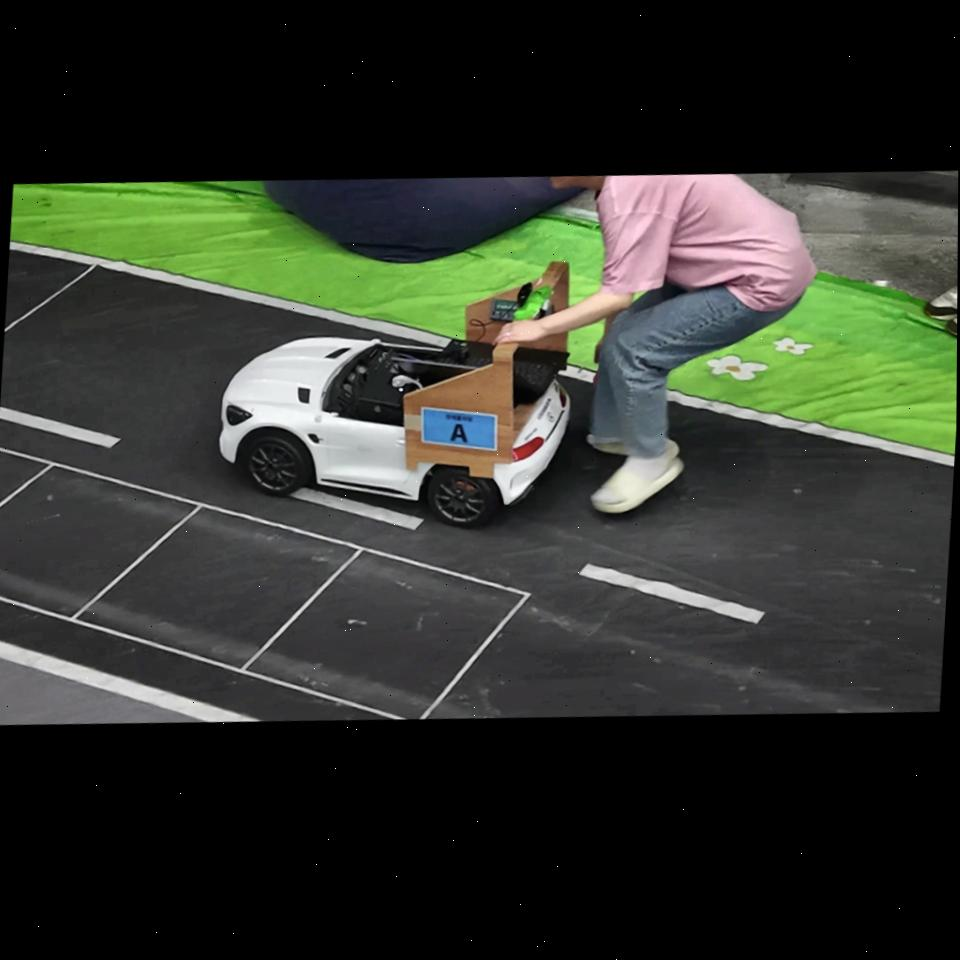broken_line: (580, 564, 765, 623), (289, 487, 425, 530), (0, 407, 121, 448)
